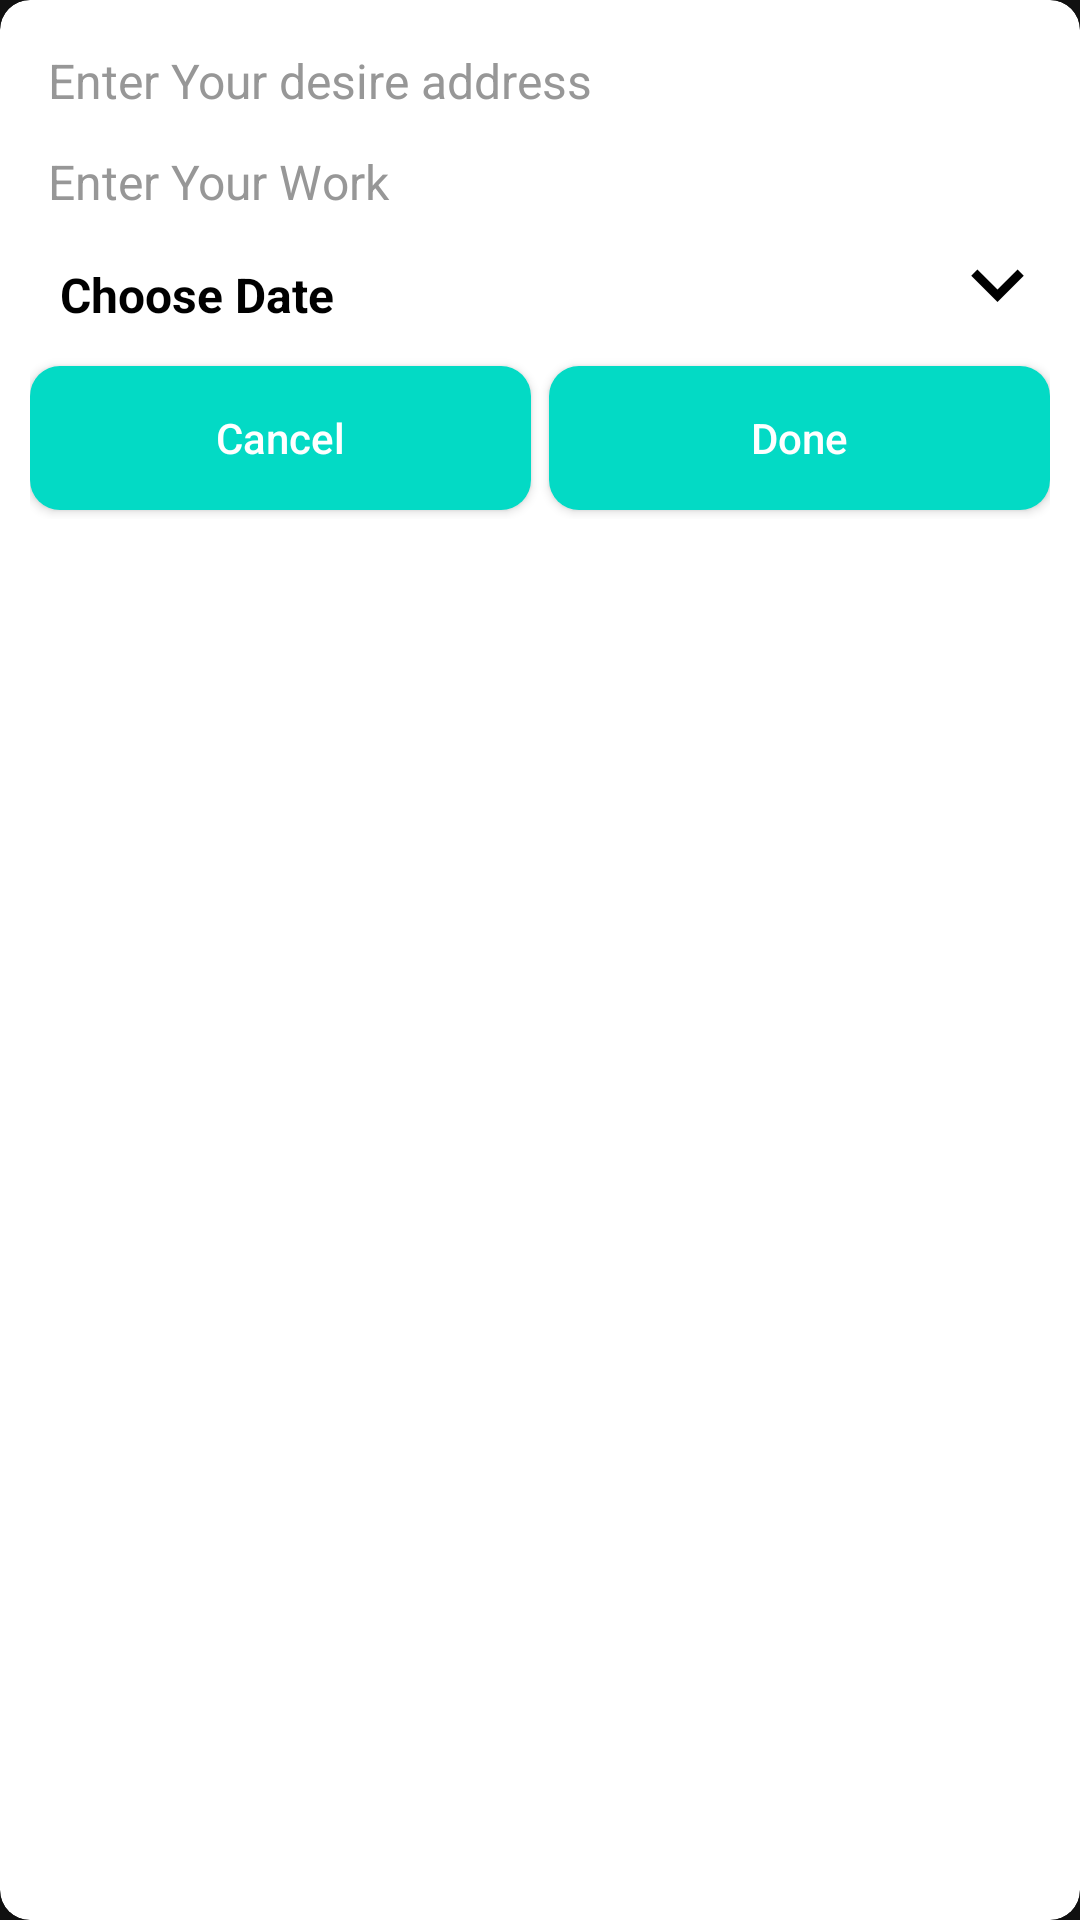

Where to tap for icons on this 1080×1920 app screen, as (x,y):
keyboard arrow down: (997,285)
